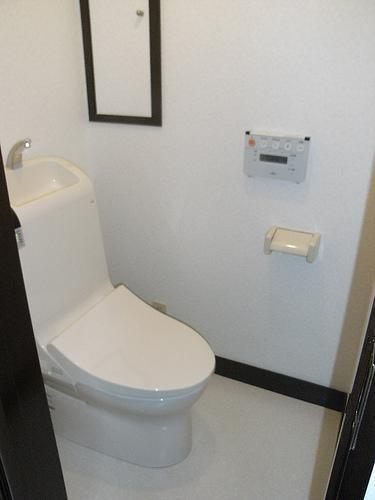Sanitario: (0, 138, 220, 484)
